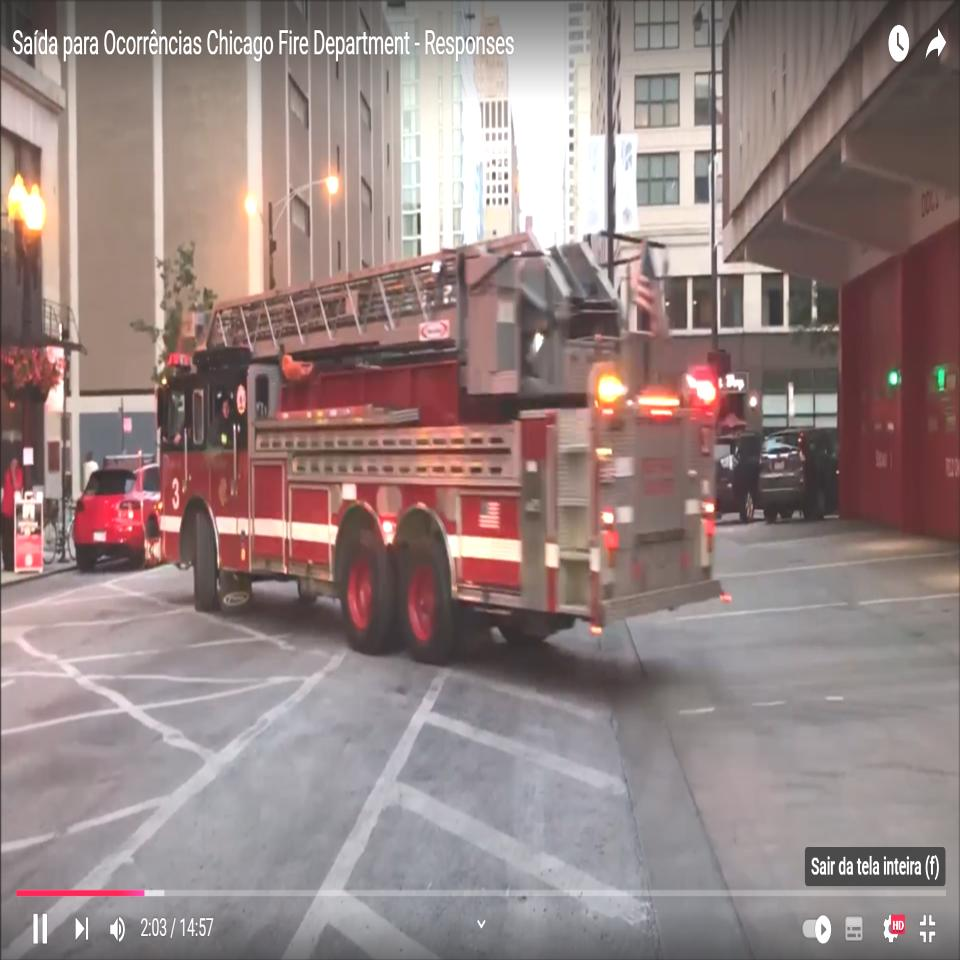bombeiro: (154, 222, 726, 664)
